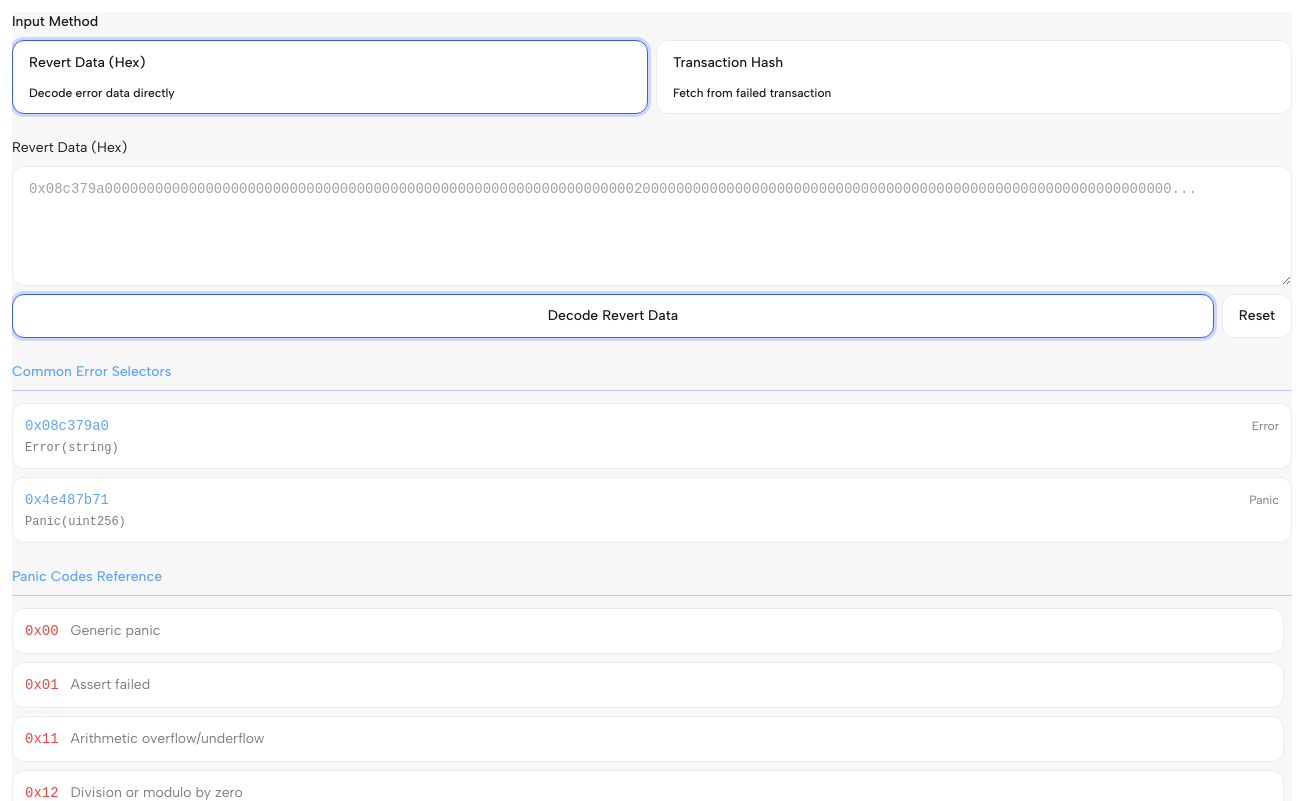
Test: RevertReasonDecoderTool › shows error for empty input
This screenshot has width=1304, height=801.
Click the button "Decode Revert Data": point(613, 316) left=12, top=294, right=1214, bottom=338
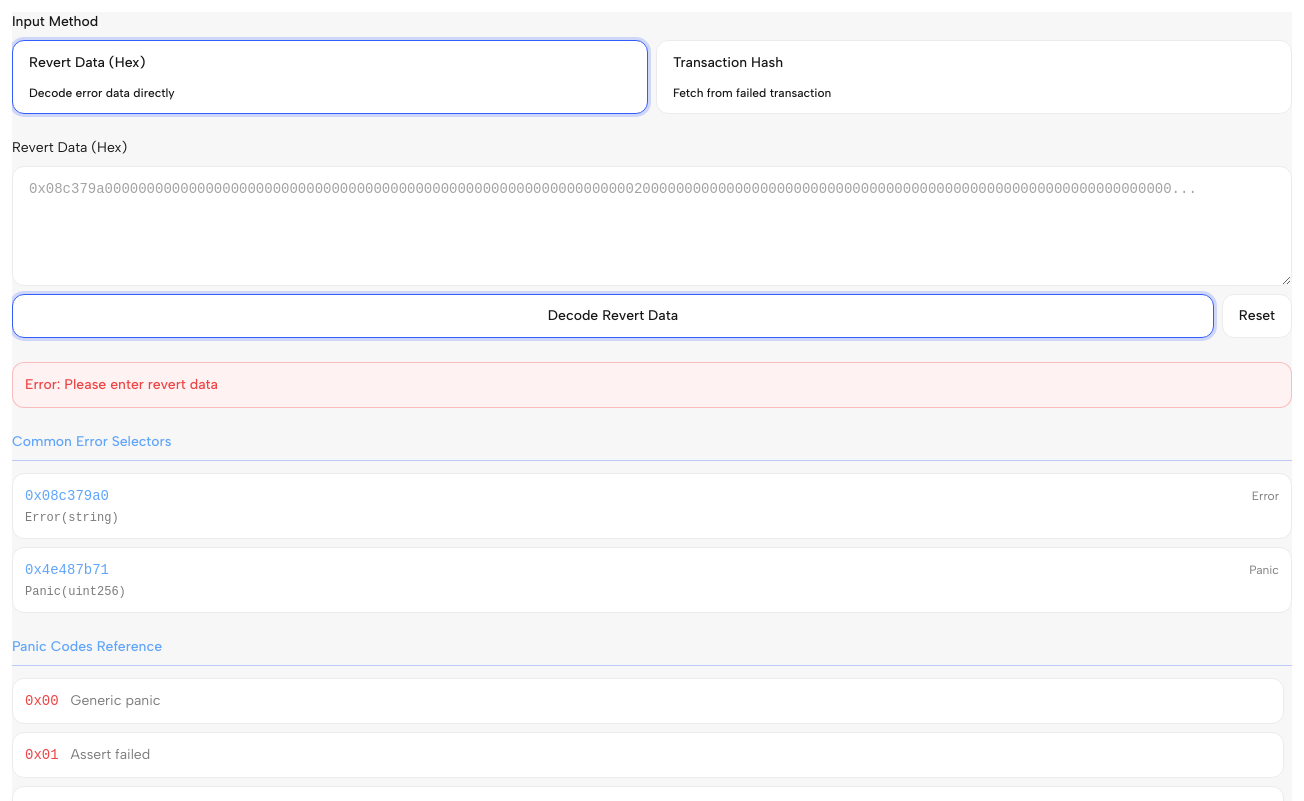
Result: the text "Error: Please enter revert data" is shown at left=25, top=376, right=218, bottom=393
